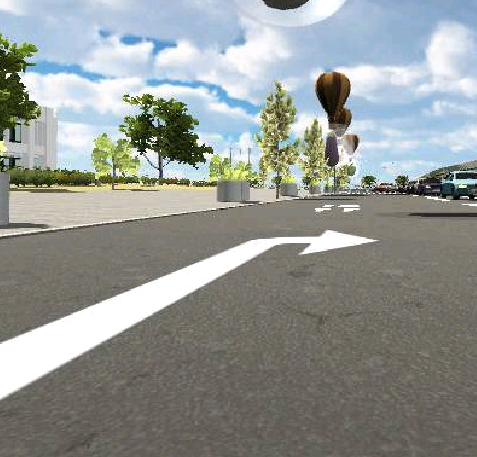ground_right: (196, 229, 382, 254)
